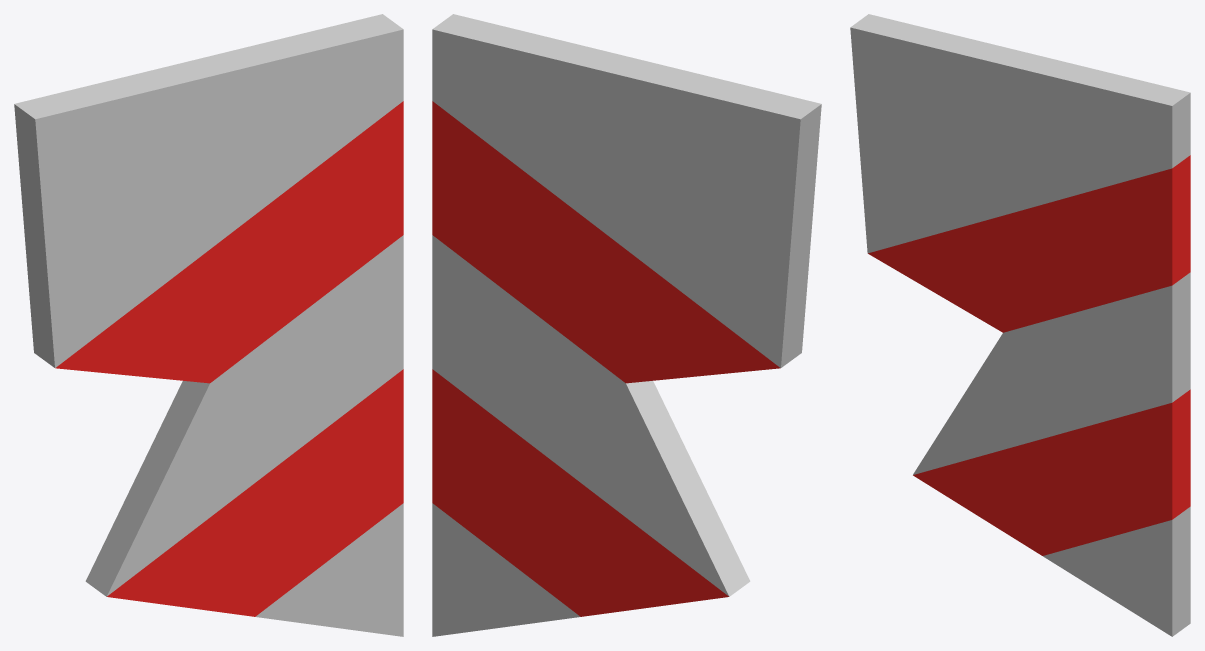
Rendered from SBTopRight.fbx.
3 renders of one model, left to right at view 1: azimuth 30°, elevation 25°; view 2: azimuth 150°, elevation 25°; view 3: azimuth 330°, elevation 25°, orthographic. The views are drawn at different scales.
Visible parts, largest first — view 1: Plane.044; view 2: Plane.044; view 3: Plane.044.
Boxes of the visible parts, <box> form: Plane.044: <box>14,14,403,636</box>; Plane.044: <box>432,14,821,636</box>; Plane.044: <box>850,14,1190,636</box>.
Bounding box in the file's own units: 1.23 × 1.95 × 0.1223.
